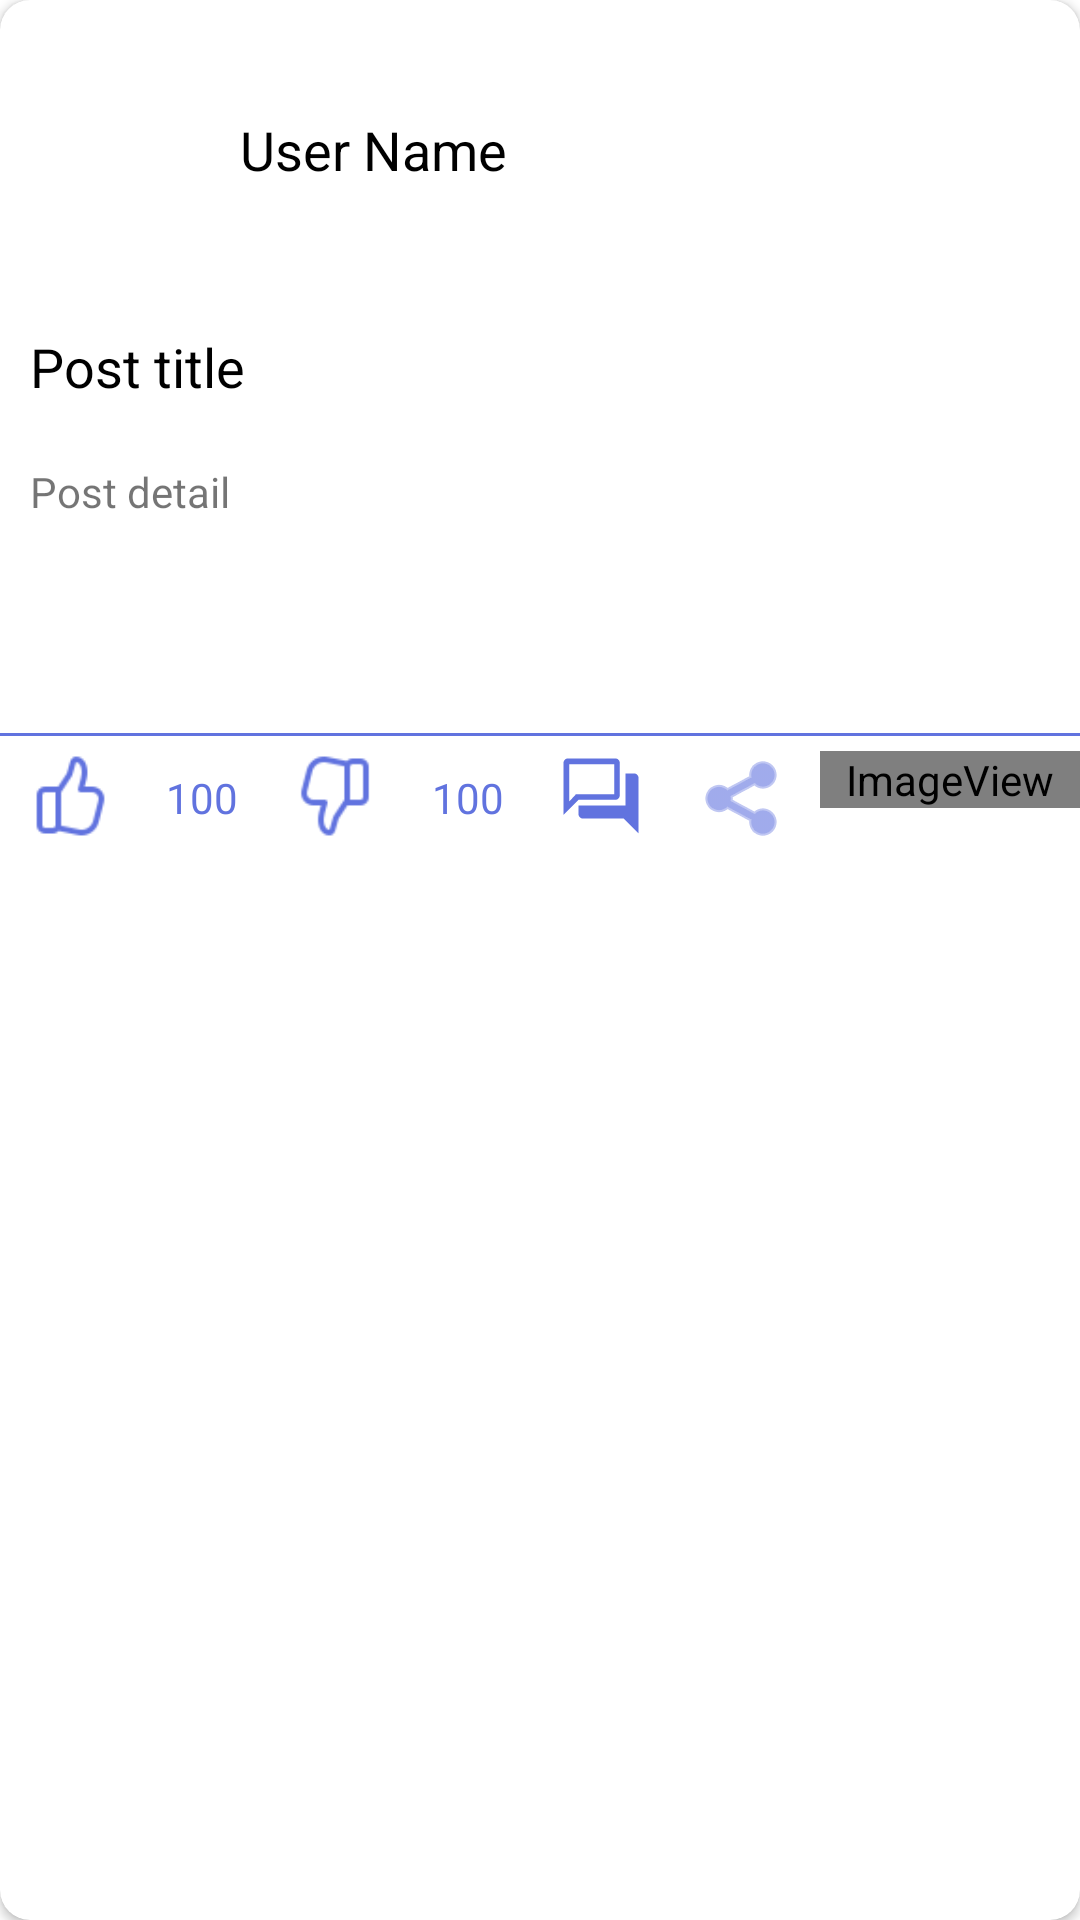

Locate icon controls on the screen. Image size 1080*1920, boxes as bbox=(x1, y1, x2, y2).
community custom: bbox=(563, 758, 639, 833)
share: bbox=(705, 761, 777, 836)
